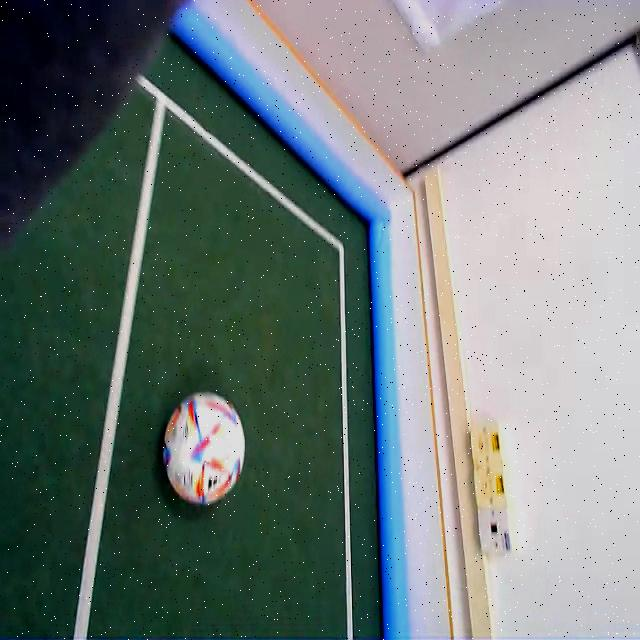ball: (164, 391, 244, 505)
